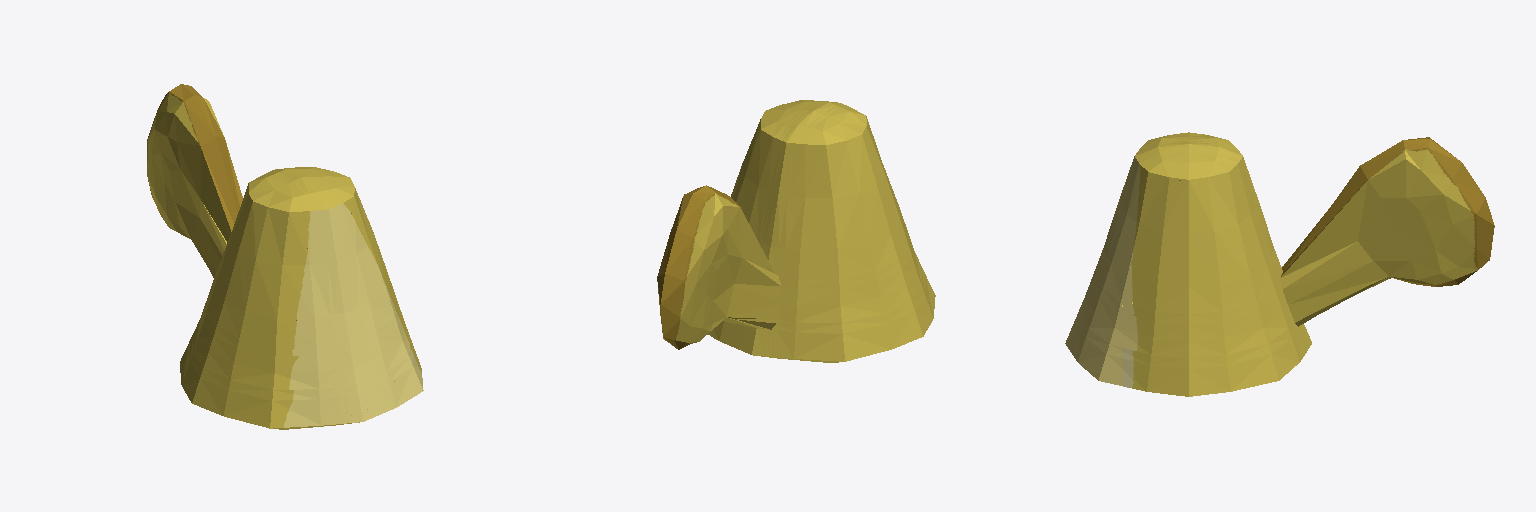
The picture shows the model from 3 angles: view 1: azimuth 30°, elevation 25°; view 2: azimuth 150°, elevation 25°; view 3: azimuth 270°, elevation 25°; orthographic projection.
Visible parts, largest first — view 1: 立方体.001; view 2: 立方体.001; view 3: 立方体.001.
Boxes of the visible parts, x1=… form: 立方体.001: x1=147, y1=84, x2=423, y2=429; 立方体.001: x1=657, y1=100, x2=935, y2=362; 立方体.001: x1=1065, y1=132, x2=1494, y2=396.
Size of the model in its own units: 1.45 by 1.48 by 2.46.
Materials: 1 (1 with a texture image).